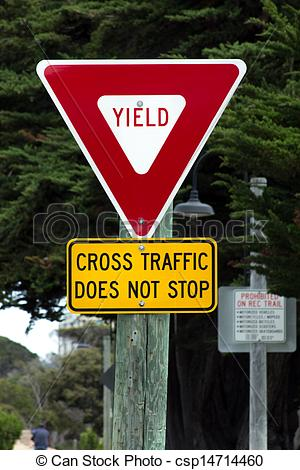yield_sign: (34, 56, 247, 237)
